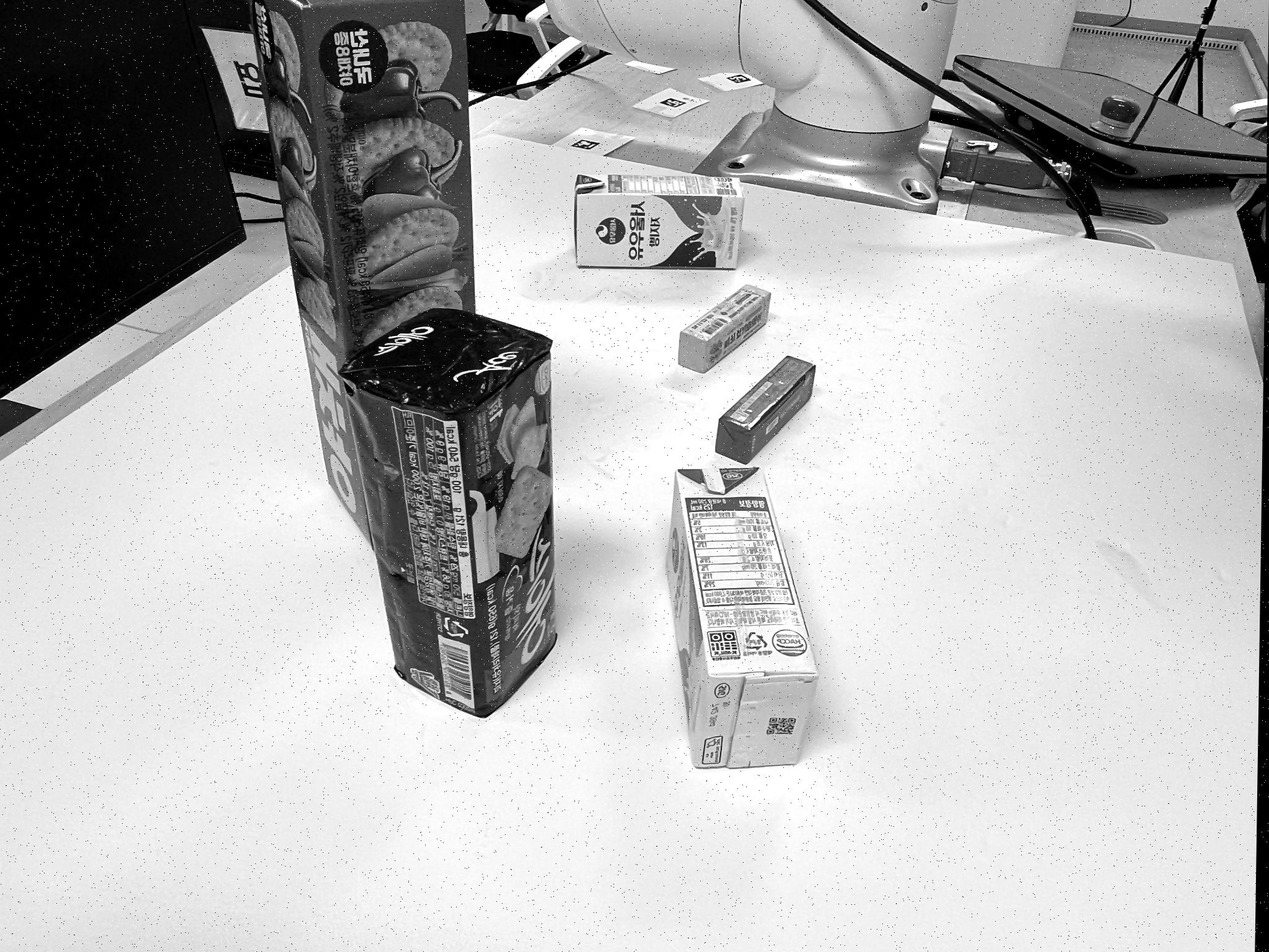cracker_ace: (340, 309, 554, 717)
cracker_vege: (251, 0, 476, 532)
gum_green: (715, 356, 816, 464)
gum_yellow: (680, 286, 770, 372)
milk_blue: (574, 173, 745, 269)
milk_green: (666, 467, 817, 768)
